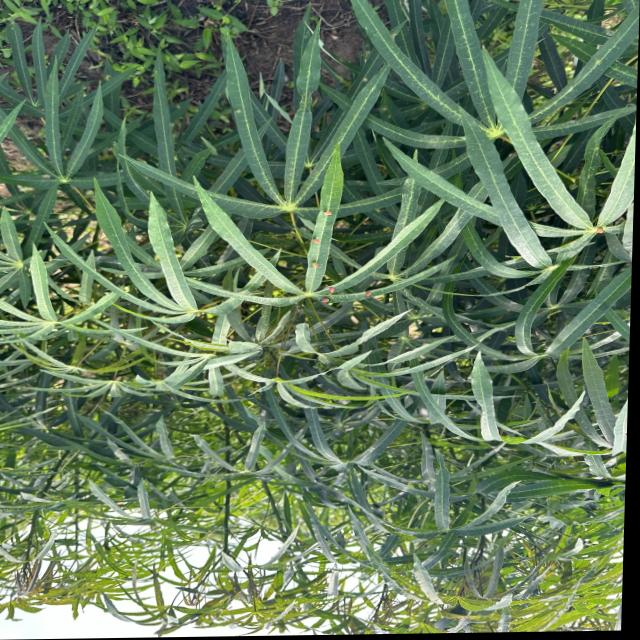Mosca: (580, 218, 609, 243), (229, 99, 250, 121), (320, 282, 337, 309), (356, 287, 379, 304), (304, 227, 320, 246), (307, 255, 325, 271), (320, 205, 337, 220)
